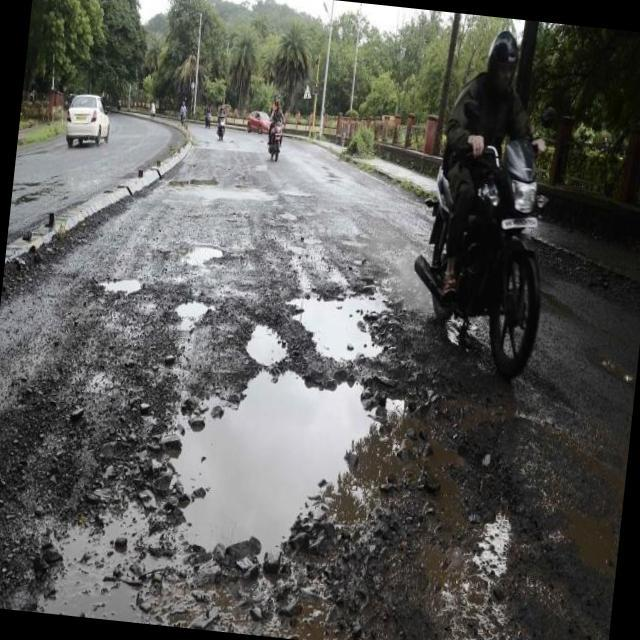Pothole: (173, 325, 463, 549), (298, 297, 383, 357)
